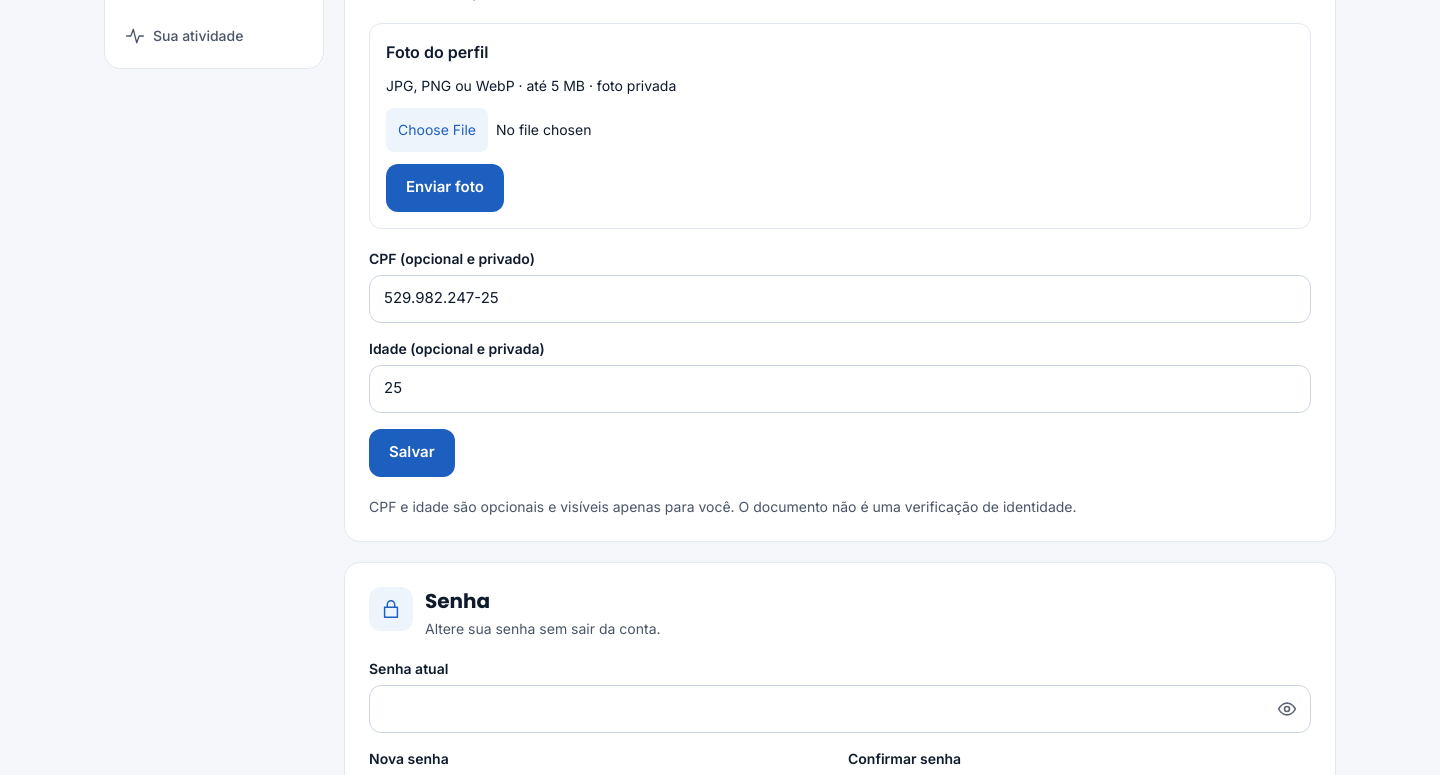
Test: troca de conta não mantém dados privados da conta anterior durante a recarga
(page scrolled)
Step 1. Replace the text in the field labelled "Idade (opcional e privada)" with "2e5a1" → (840, 388), box [369,364,1311,412]
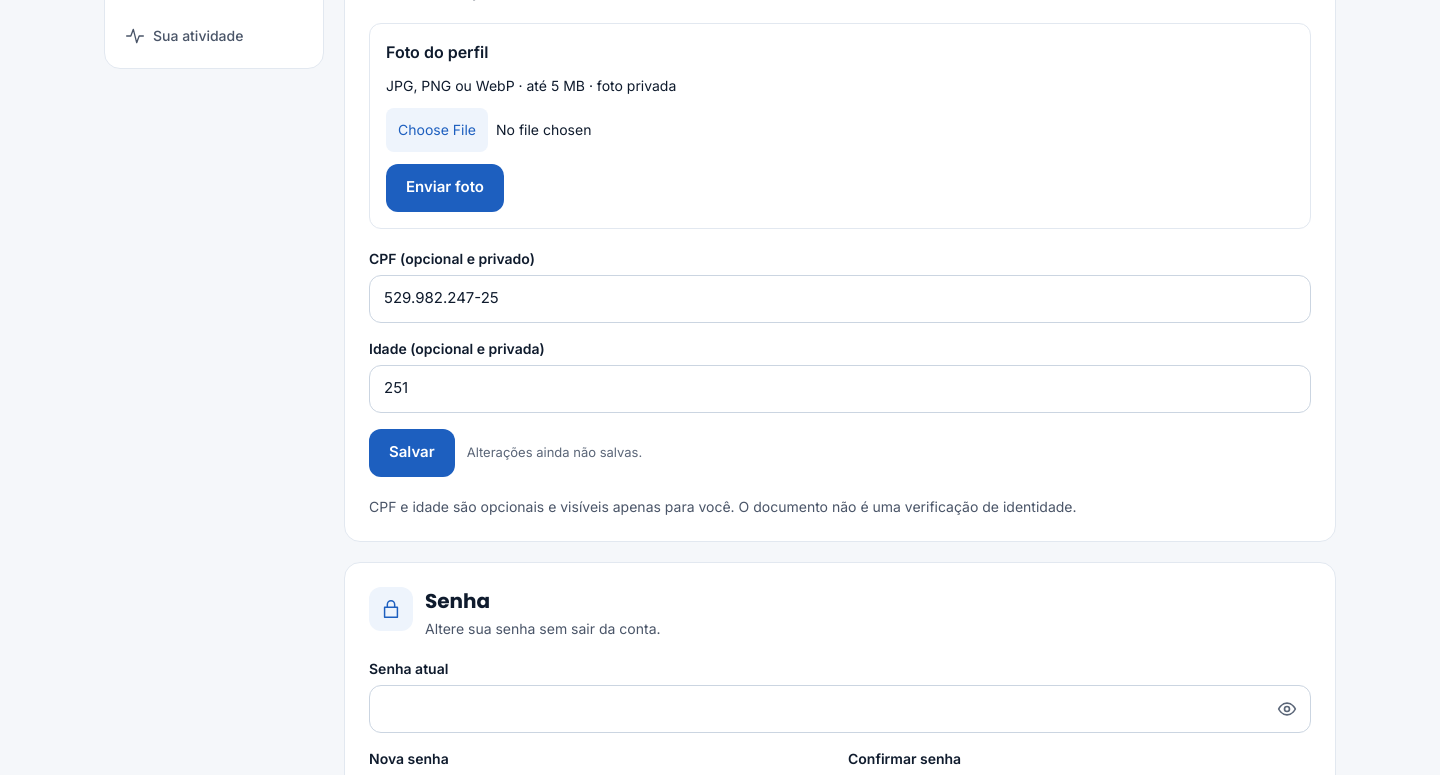
Step 2. Replace the text in the field showing "529.982.247-25" with "abc12345678909x" → (840, 298), box [369,274,1311,322]
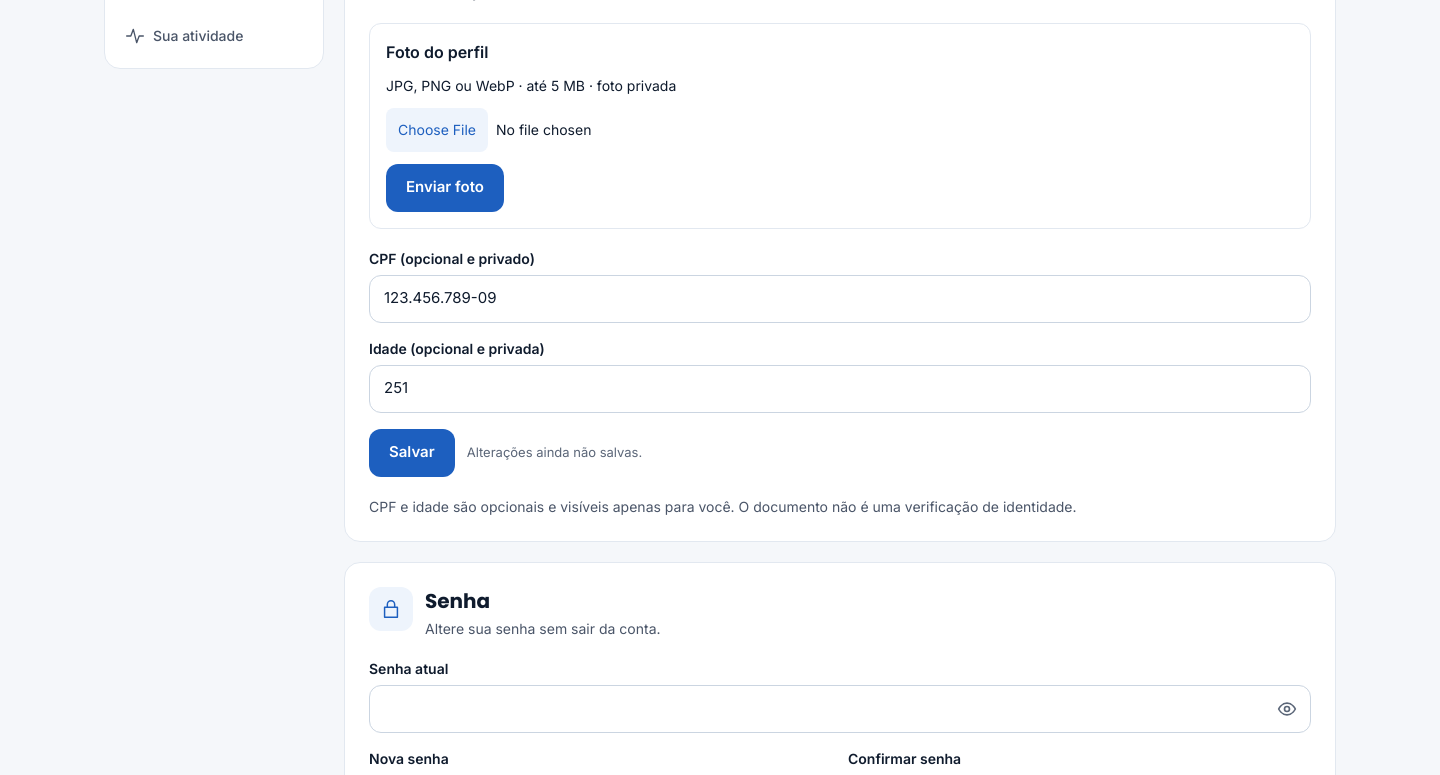
Check: the field showing "529.982.247-25" holds "123.456.789-09", box [369,274,1311,322]
